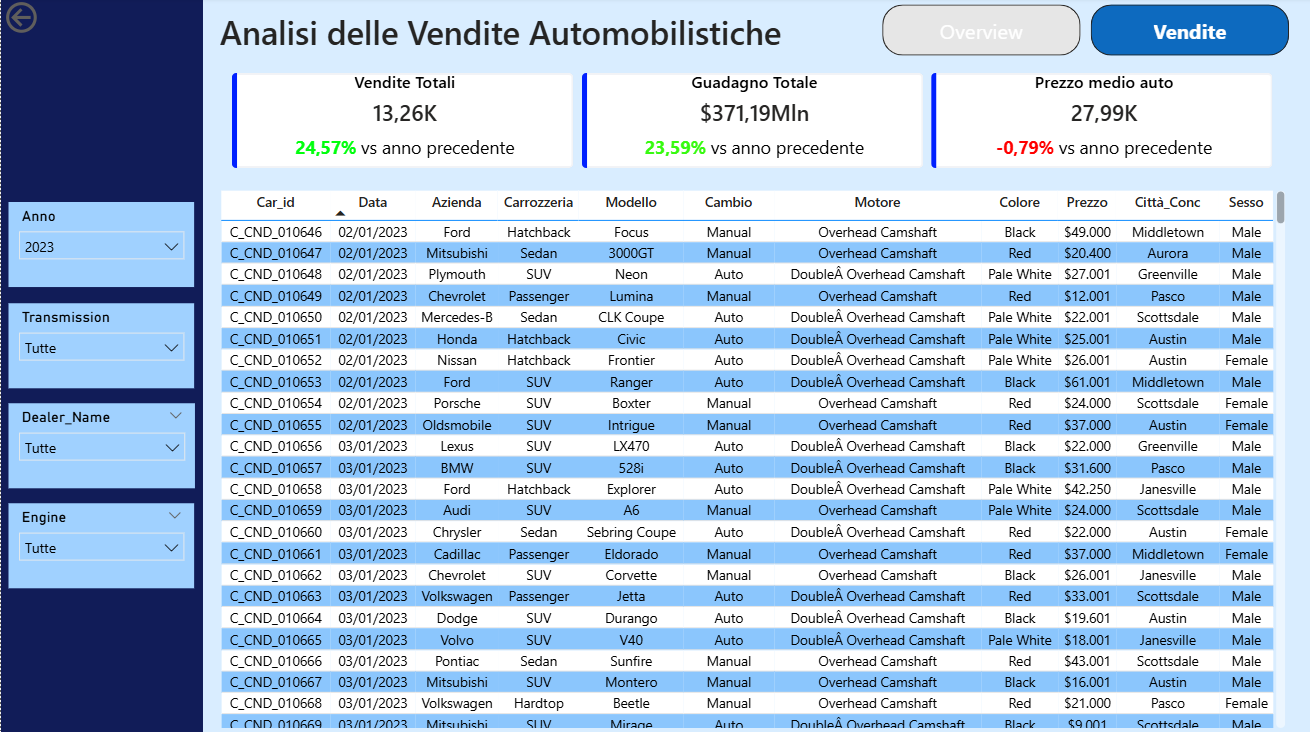

What the dashboard file says about the page in this screenshot:
{"tool":"powerbi","page":{"name":"Vendite","canvas":[1280,720],"ordinal":1},"visuals":[{"type":"shape","box":[0,0,197.7,720.2],"z":0},{"type":"cardVisual","fields":{"Data":["Misure.Vendite Totali","Misure.Guadagno Totale","Misure.Prezzo medio auto"]},"box":[209,57.9,1053,127],"z":1000},{"type":"tableEx","fields":{"Values":["car_data.Car_id","car_data.Date","car_data.Company","car_data.Body Style","car_data.Model","car_data.Transmission","car_data.Engine","car_data.Color","Sum(car_data.Price ($))","car_data.Dealer_Region","car_data.Gender"]},"box":[209,184.6,1052.4,535.4],"z":2000},{"type":"actionButton","box":[0,0,100,40],"z":3000},{"type":"slicer","fields":{"Values":["Calendar.Anno"]},"box":[7.6,201,181.7,83.6],"z":4000},{"type":"slicer","fields":{"Values":["car_data.Transmission"]},"box":[7.6,299,181.7,83.6],"z":5000},{"type":"slicer","fields":{"Values":["car_data.Dealer_Name"]},"box":[7.1,397.1,182.7,83.6],"z":6000},{"type":"slicer","fields":{"Values":["car_data.Engine"]},"box":[7.6,495.2,181.7,83.6],"z":7000},{"type":"pageNavigator","box":[861.8,7.6,399.6,50.3],"z":8000},{"type":"textbox","box":[209.2,7.2,606,60.6],"z":8001}]}

Visuals, with their boxes on the page's 1280x720 design canvas (x1, y1, x2, y2). These are canvas units, not pixel positions in the 1310x732 screenshot, which may show the page scaled, cropped or inside an application window:
shape: [x1=0, y1=0, x2=198, y2=720]
cardVisual - Misure.Vendite Totali x Misure.Guadagno Totale: [x1=209, y1=58, x2=1262, y2=185]
tableEx - car_data.Car_id x car_data.Date: [x1=209, y1=185, x2=1261, y2=720]
actionButton: [x1=0, y1=0, x2=100, y2=40]
slicer - Calendar.Anno: [x1=8, y1=201, x2=189, y2=285]
slicer - car_data.Transmission: [x1=8, y1=299, x2=189, y2=383]
slicer - car_data.Dealer_Name: [x1=7, y1=397, x2=190, y2=481]
slicer - car_data.Engine: [x1=8, y1=495, x2=189, y2=579]
pageNavigator: [x1=862, y1=8, x2=1261, y2=58]
textbox: [x1=209, y1=7, x2=815, y2=68]
